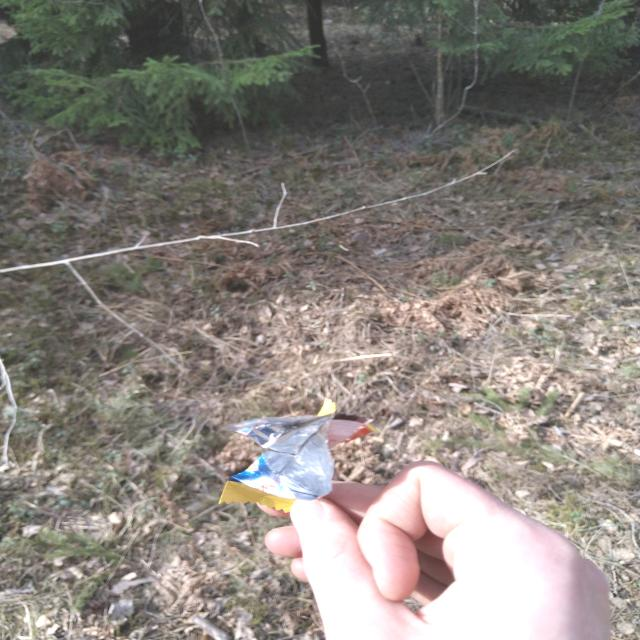Other plastic: (219, 398, 378, 513)
